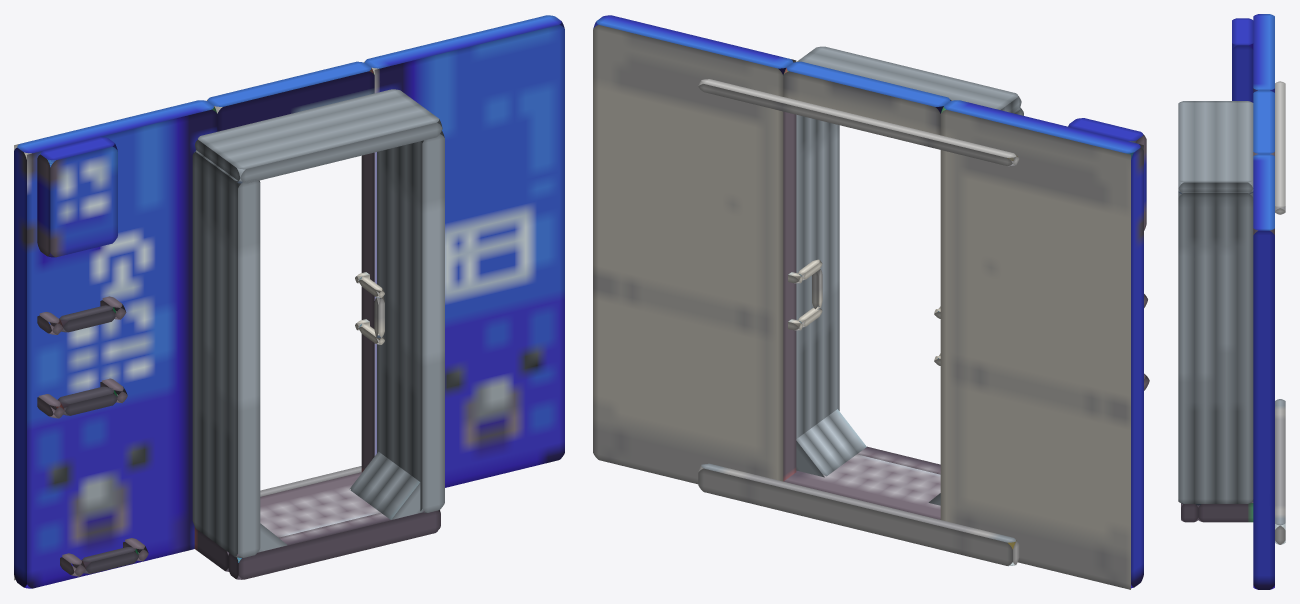
File: end_face_sliding_original_25k_3.obj
3 views of the same model, side by side, from view 1: azimuth 30°, elevation 25°; view 2: azimuth 150°, elevation 25°; view 3: azimuth 270°, elevation 25° (orthographic). The views are drawn at different scales.
Visible parts, largest first — view 1: cube, cube_selection; view 2: cube, cube_selection; view 3: cube_selection, cube.
Part boxes in pixels (x1,y1,x2,y2): cube: (14,15,564,588); cube_selection: (192,89,444,557); cube: (593,15,1149,589); cube_selection: (698,46,1023,566); cube_selection: (1178,81,1285,544); cube: (1181,14,1274,589).
Bounding box in the file's own units: 2.99 × 2.31 × 0.625.
